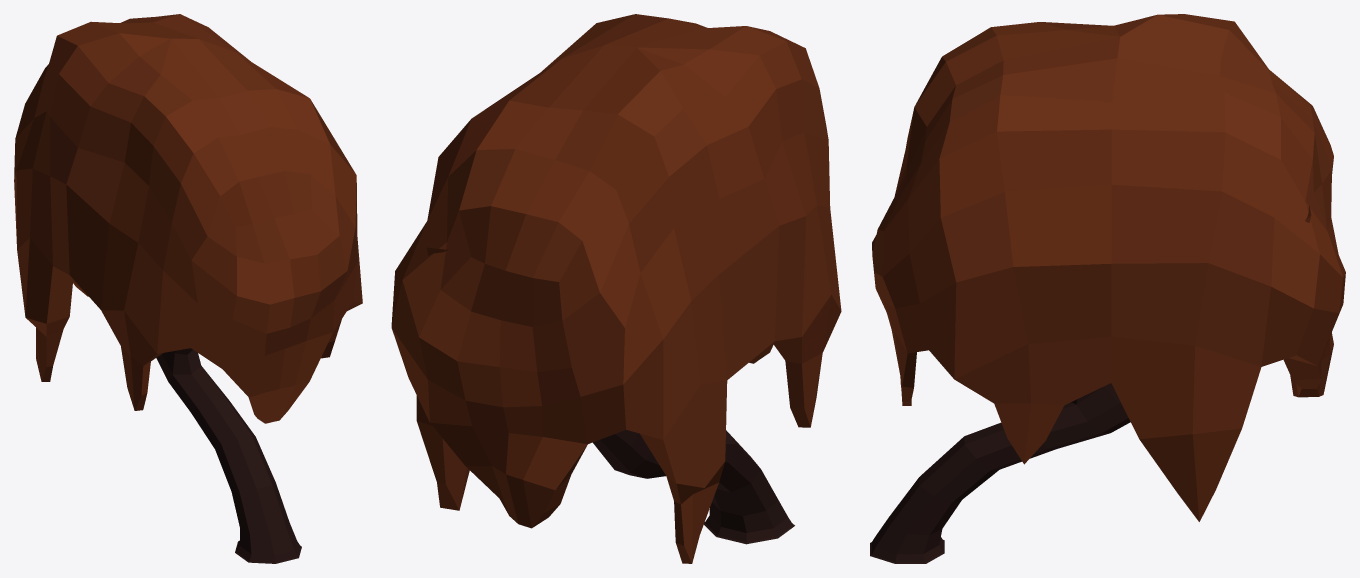
The model's file is Willow_Autumn_3.obj.
The picture shows the model from 3 angles, left to right: view 1: azimuth 30°, elevation 25°; view 2: azimuth 150°, elevation 25°; view 3: azimuth 270°, elevation 25°; orthographic projection. The views are drawn at different scales.
Parts seen in each view (by area): view 1: Willow_Autumn_3_Cube.086; view 2: Willow_Autumn_3_Cube.086; view 3: Willow_Autumn_3_Cube.086.
Boxes of the visible parts, x1,y1,x2,y2 form: Willow_Autumn_3_Cube.086: (14,14,362,563); Willow_Autumn_3_Cube.086: (391,14,841,563); Willow_Autumn_3_Cube.086: (870,14,1345,563).
Bounding box in the file's own units: 1.32 × 2.35 × 1.98.
